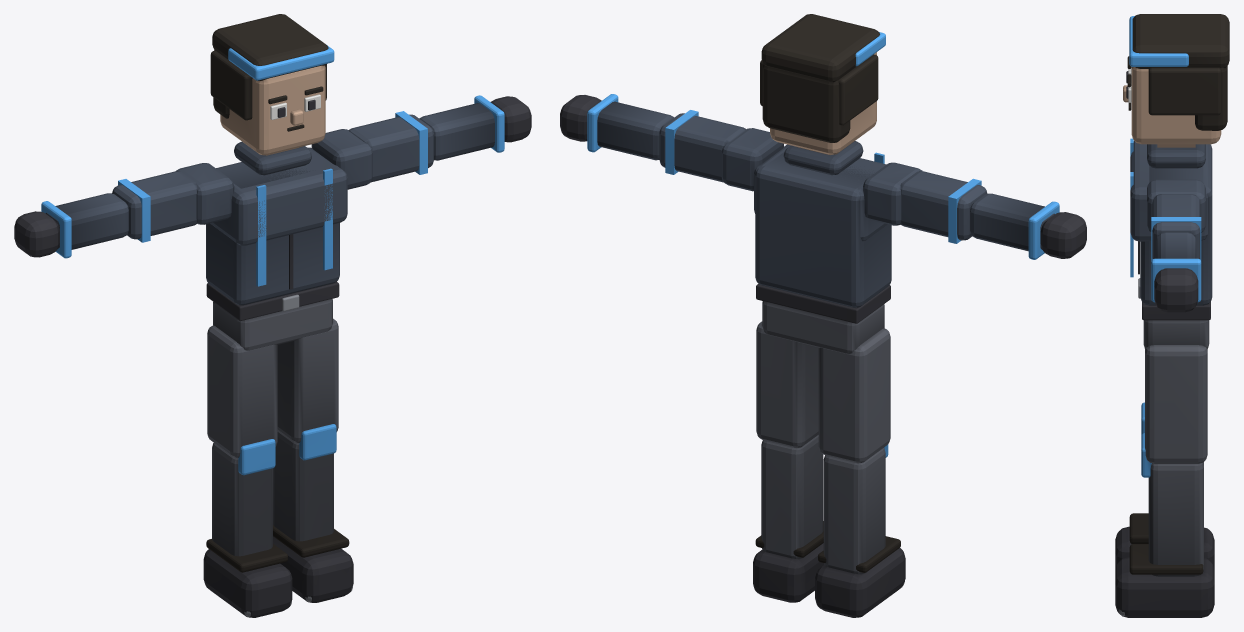
The model's file is rhea.glb.
3 renders of one model, left to right at view 1: azimuth 30°, elevation 25°; view 2: azimuth 150°, elevation 25°; view 3: azimuth 270°, elevation 25°, orthographic. The views are drawn at different scales.
Parts seen in each view (by area): view 1: Rhea_Voss; view 2: Rhea_Voss; view 3: Rhea_Voss.
Boxes of the visible parts, left/top/right/bottom form: Rhea_Voss: left=14, top=14, right=531, bottom=617; Rhea_Voss: left=560, top=14, right=1086, bottom=617; Rhea_Voss: left=1115, top=14, right=1229, bottom=617.
Size of the model in its own units: 1.82 by 1.9 by 0.3487.
